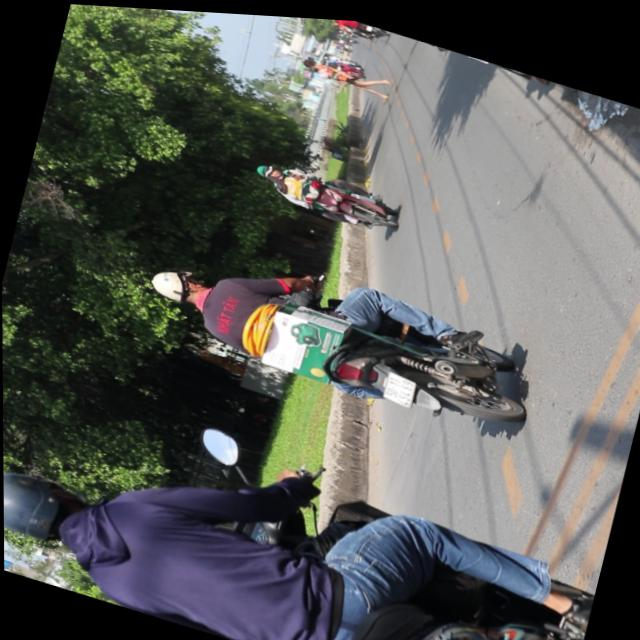helmet: (3, 458, 92, 553), (146, 261, 207, 308), (252, 159, 279, 179)
licenseplate: (2, 375, 602, 640), (133, 219, 549, 447), (246, 147, 402, 236)
nohelmet: (380, 365, 416, 402)
